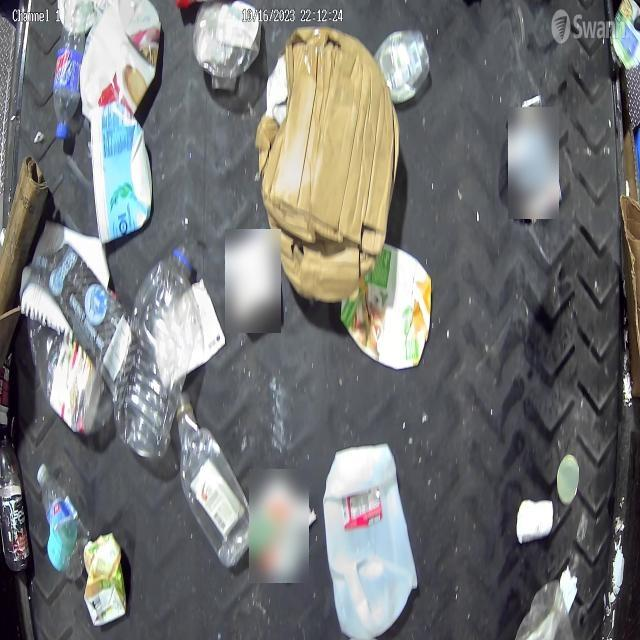milk_jug: (324, 441, 418, 638)
non_white_jug: (80, 1, 162, 120)
plastic_bottle: (111, 243, 195, 460), (174, 392, 254, 568), (22, 279, 106, 436), (34, 459, 89, 579), (0, 430, 31, 570), (50, 23, 86, 138)
